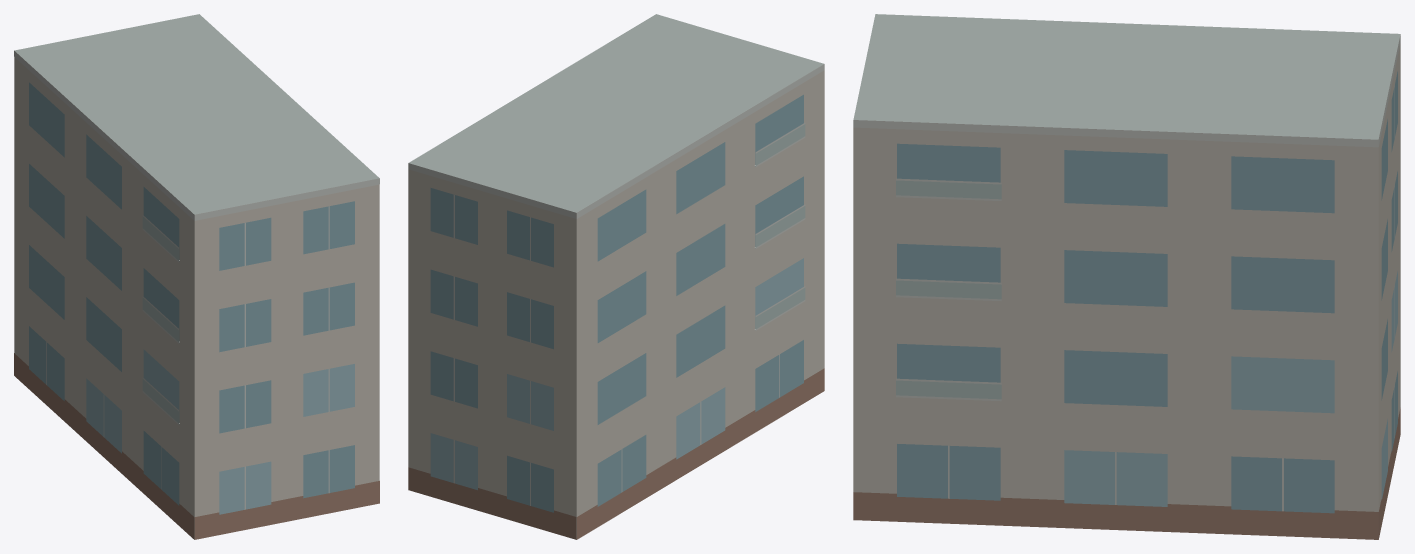
File: survey-upis-32613244.glb
3 views of the same model, side by side, from view 1: azimuth 30°, elevation 25°; view 2: azimuth 150°, elevation 25°; view 3: azimuth 270°, elevation 25° (orthographic). The views are drawn at different scales.
Visible parts, largest first — view 1: survey-upis-32613244.tmp; view 2: survey-upis-32613244.tmp; view 3: survey-upis-32613244.tmp.
Boxes of the visible parts, x1,y1,x2,y2 form: survey-upis-32613244.tmp: (14,14,379,539); survey-upis-32613244.tmp: (408,14,824,539); survey-upis-32613244.tmp: (853,14,1400,539).
Size of the model in its own units: 8.64 by 12.8 by 15.88.
